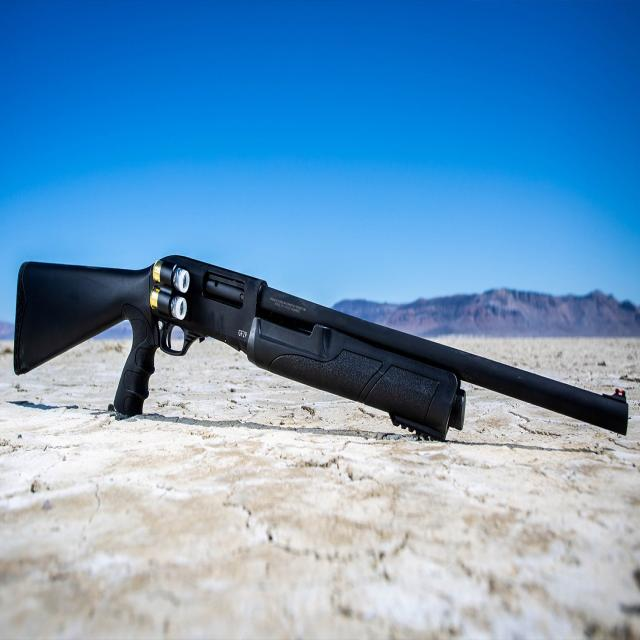ShotGun: (12, 255, 629, 443)
